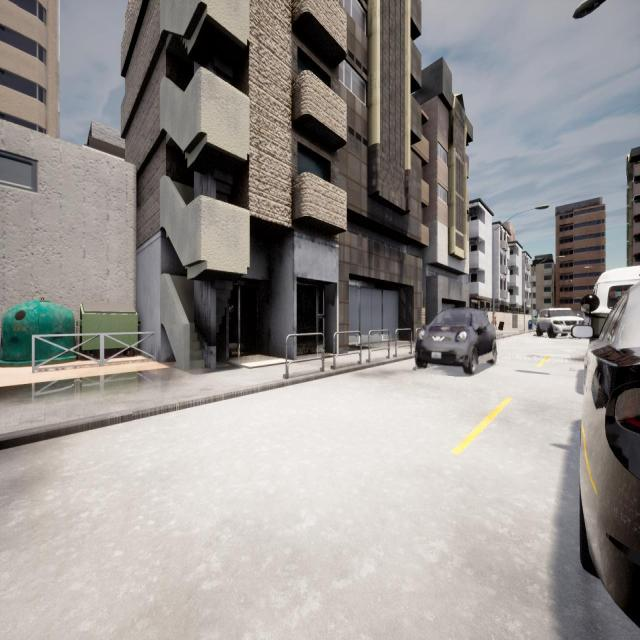Vehicle: (581, 274, 640, 630), (416, 307, 497, 375), (594, 267, 640, 335), (537, 308, 581, 337)
traffic_light: (525, 301, 526, 310)
